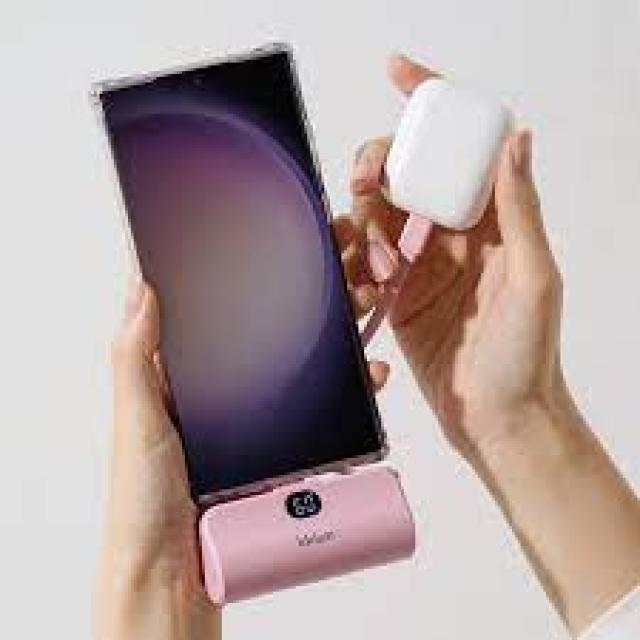portable-charger: (196, 464, 421, 608), (382, 78, 510, 232)
